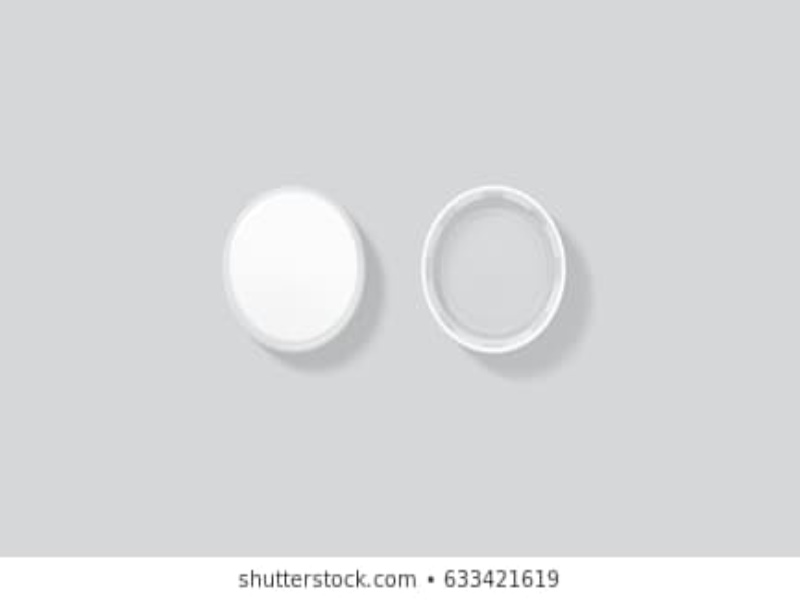bottle-cap: (420, 182, 568, 356), (219, 187, 368, 353)
